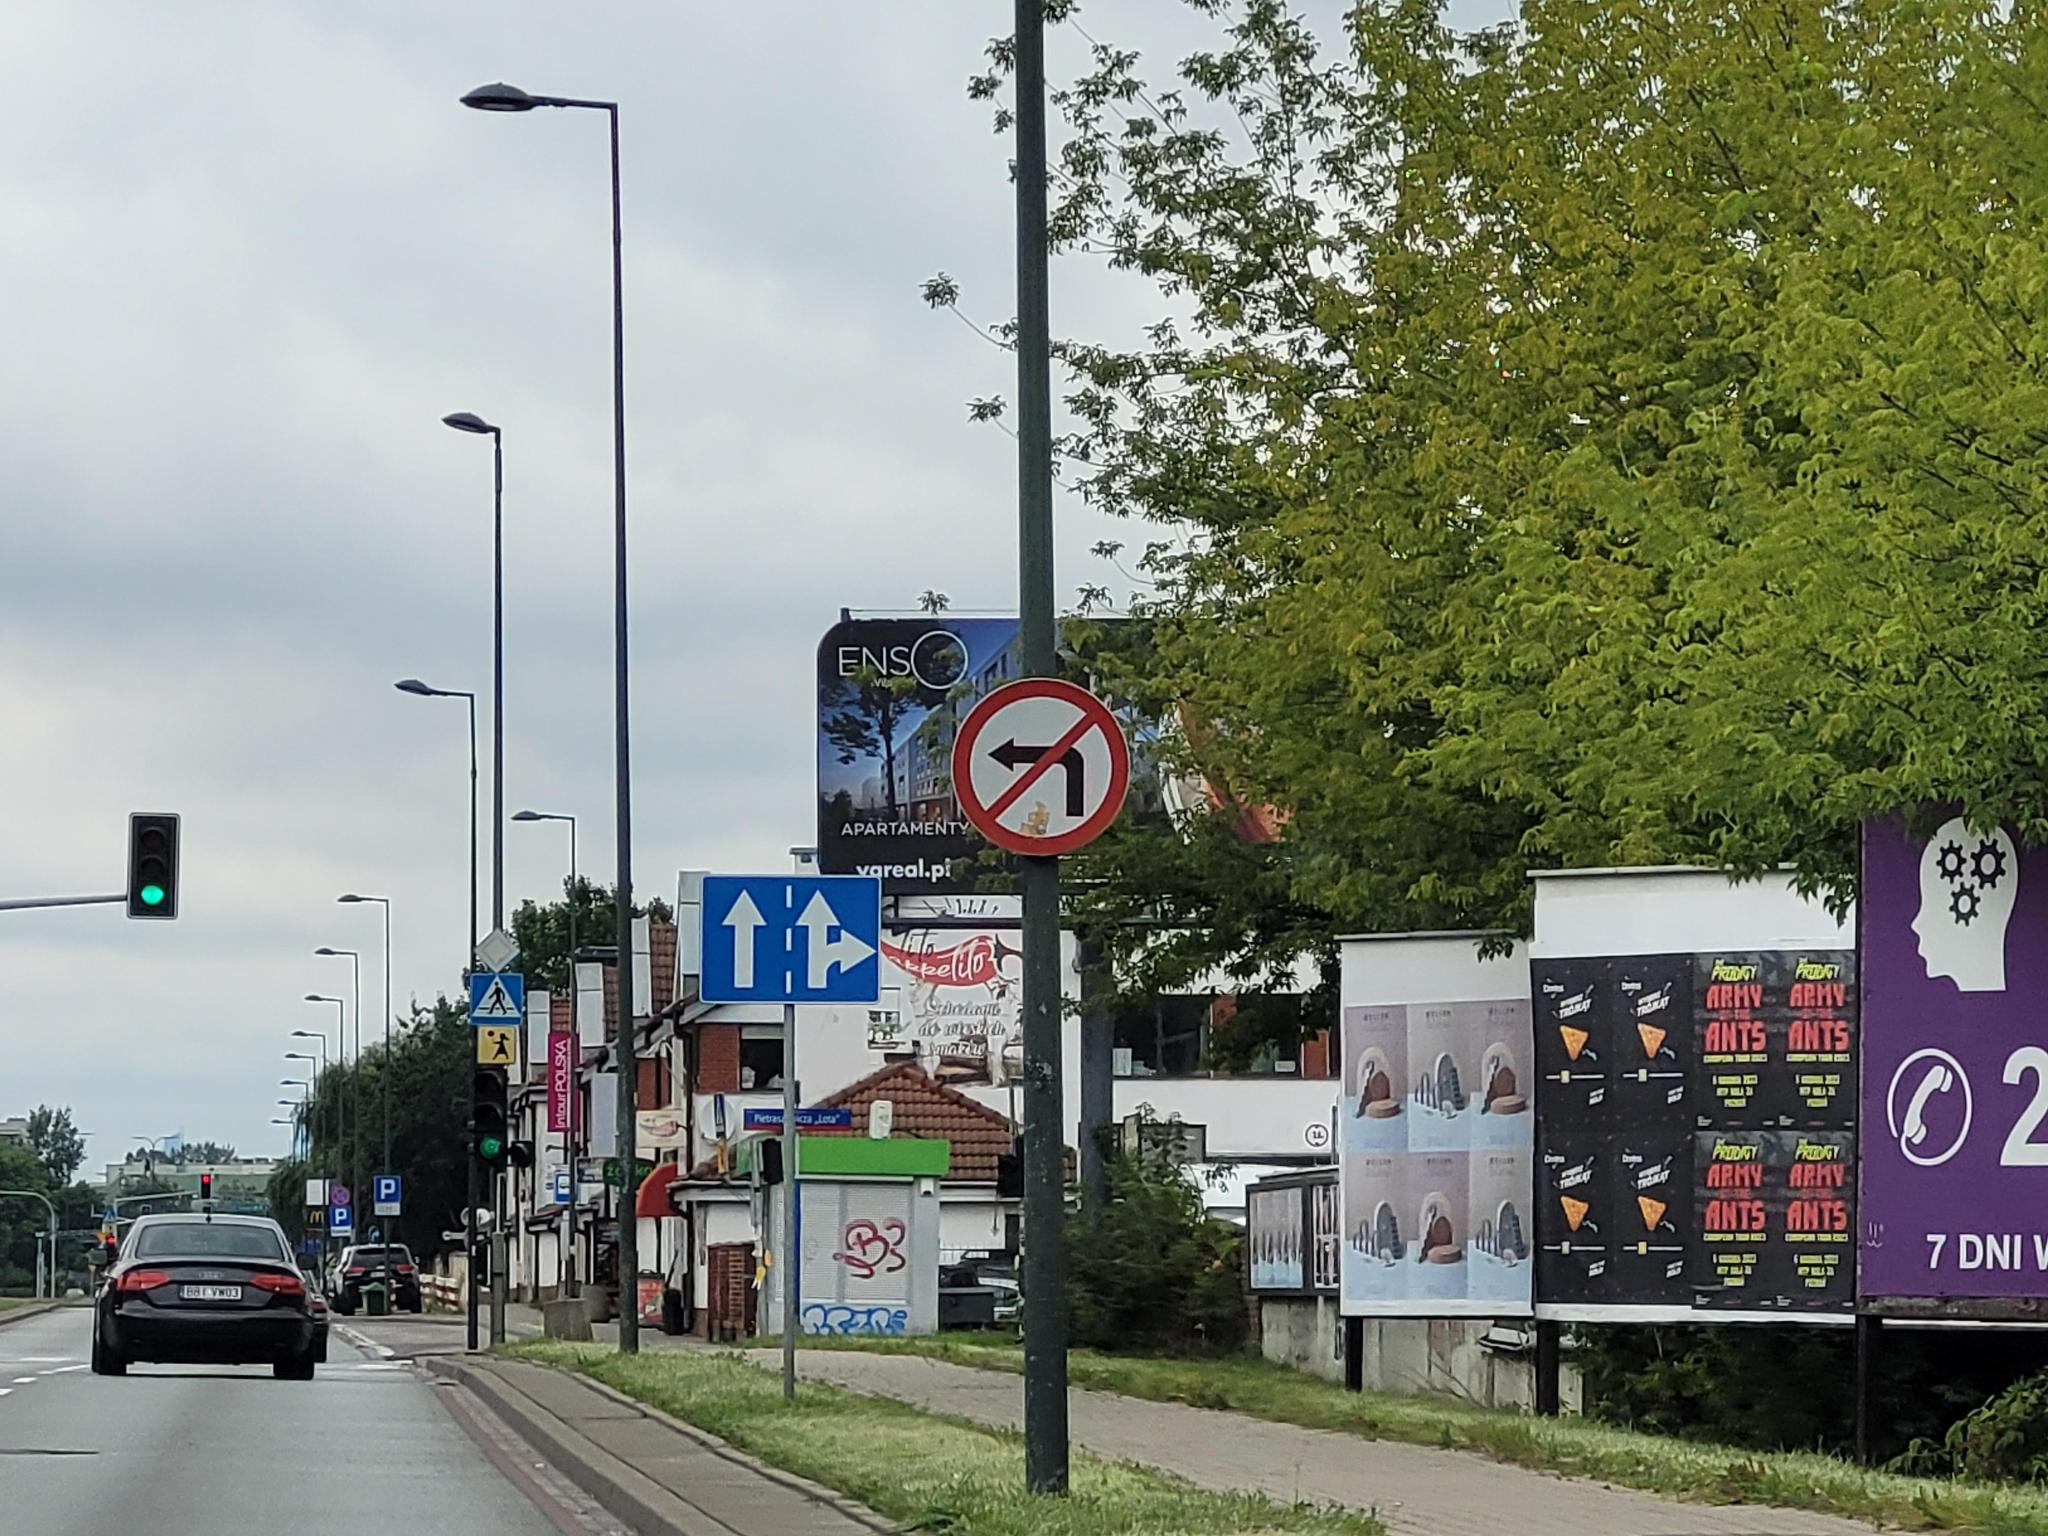information: (471, 975, 521, 1023), (472, 929, 521, 975), (374, 1176, 400, 1202), (332, 1207, 350, 1225)
other: (703, 878, 877, 1002), (477, 1028, 514, 1063)
prohibitory: (948, 676, 1134, 857), (329, 1184, 350, 1205)
